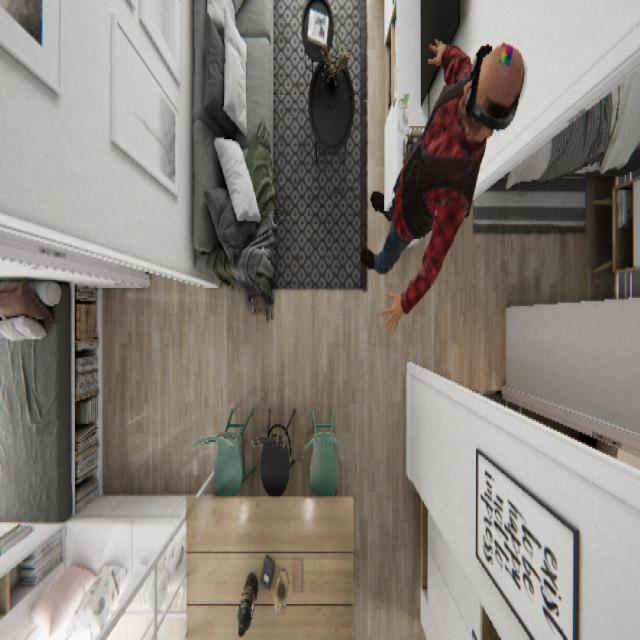Colored-Marker: (498, 39, 514, 67)
Human: (360, 34, 526, 334)
